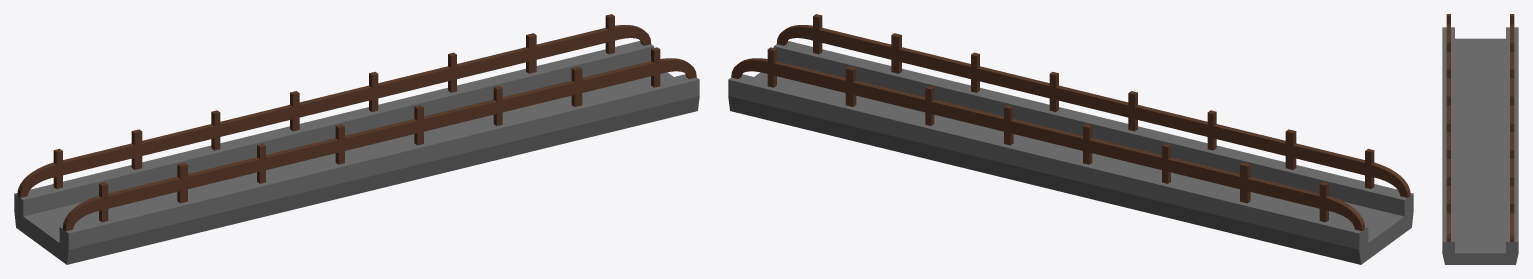
Rendered from bridge_large.glb.
3 renders of one model, left to right at view 1: azimuth 30°, elevation 25°; view 2: azimuth 150°, elevation 25°; view 3: azimuth 270°, elevation 25°, orthographic. The views are drawn at different scales.
Visible parts, largest first — view 1: BridgeLarge; view 2: BridgeLarge; view 3: BridgeLarge.
Boxes of the visible parts, left/top/right/bottom form: BridgeLarge: left=14, top=14, right=699, bottom=264; BridgeLarge: left=728, top=14, right=1413, bottom=264; BridgeLarge: left=1442, top=14, right=1518, bottom=264.
Size of the model in its own units: 40 by 4.21 by 6.
Materials: 1 (1 with a texture image).
